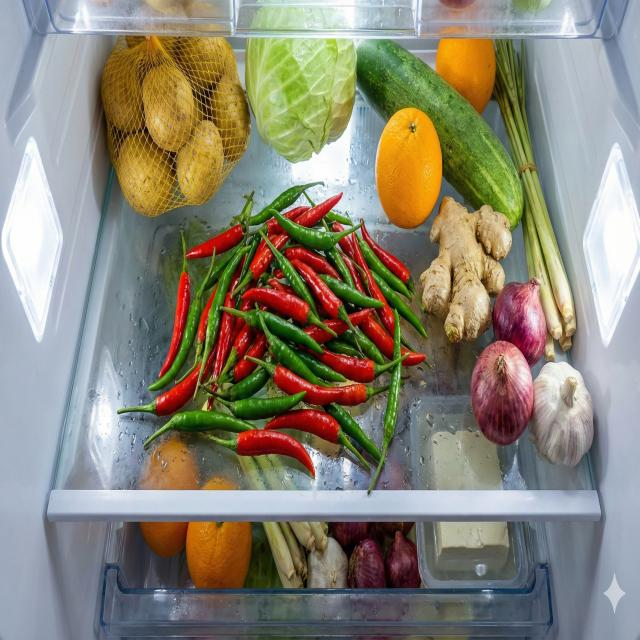cabbage: (244, 1, 358, 164)
chili: (117, 180, 433, 497)
cucumber: (355, 37, 524, 233)
garlic: (307, 536, 349, 590)
ginger: (419, 196, 512, 344), (529, 361, 594, 467)
lemongrass: (495, 38, 577, 363), (236, 454, 329, 589)
onion: (470, 277, 547, 447), (332, 522, 422, 590)
orange: (140, 440, 253, 590), (374, 107, 443, 231), (436, 35, 496, 116)
potato: (101, 33, 251, 217)
tofu: (425, 429, 510, 570)
